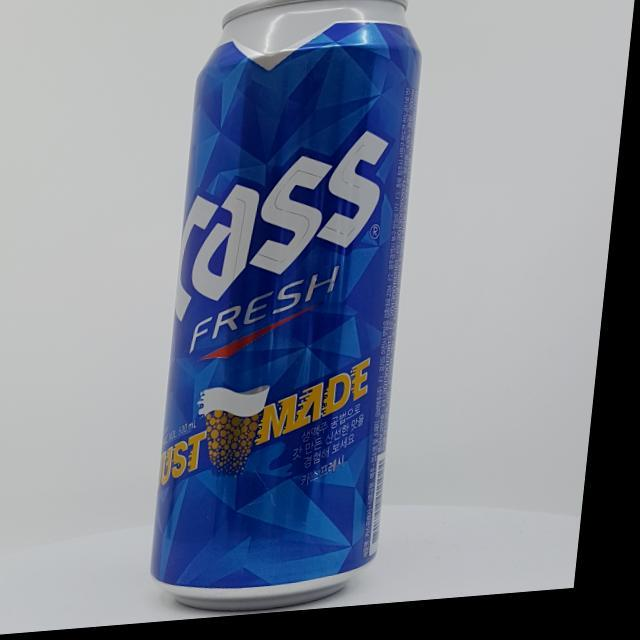beer-can: (154, 0, 437, 623)
